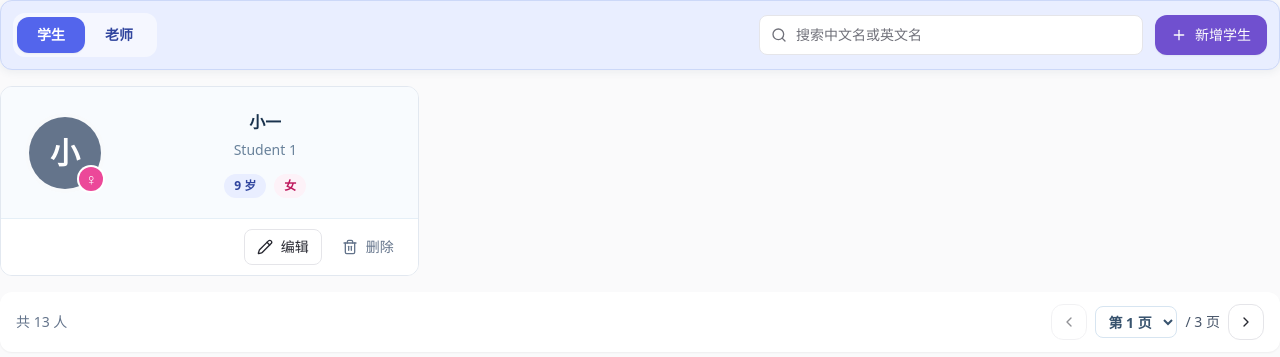
Test: PeopleManager › supports direct page selection and does not reserve space for empty notes
Expected: the heading "小一" is shown, 249,108 -> 281,136
Select "第 3 页" in the dropdown named "选择页码": (1136, 322) 1096,306 -> 1178,338
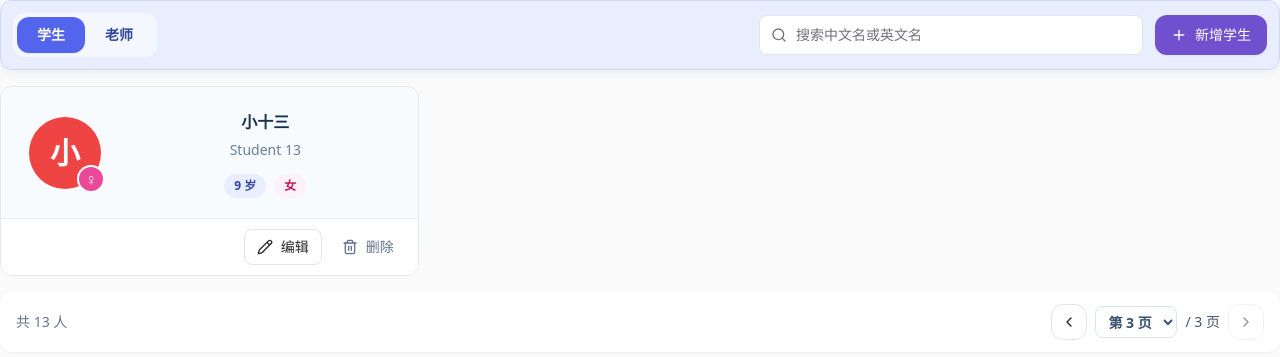
Expected: the heading "小十三" is shown, 241,108 -> 289,136
